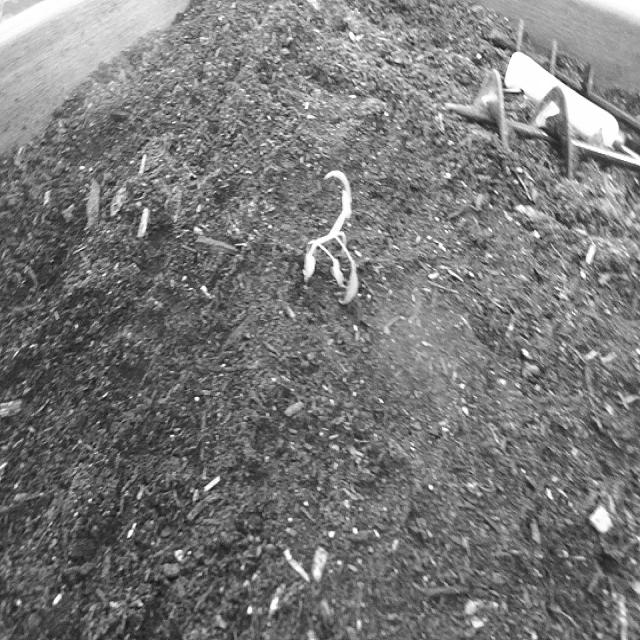Healthy: (294, 153, 376, 325)
